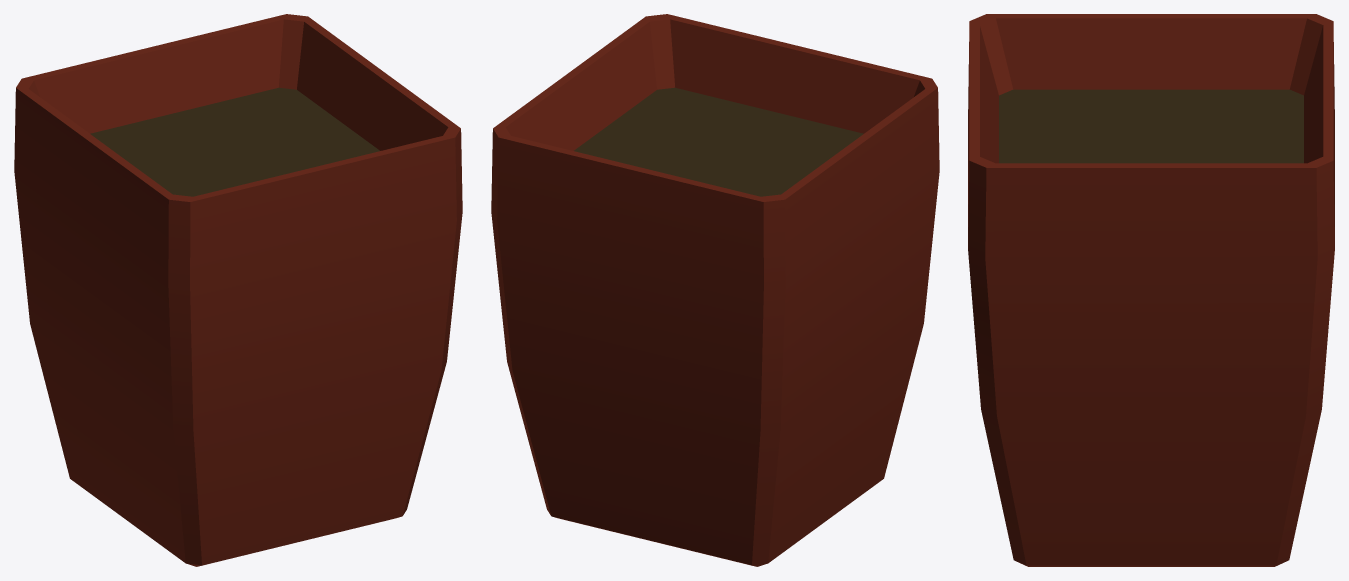
The model's file is PlantPot-Large_05.fbx.
3 renders of one model, left to right at view 1: azimuth 30°, elevation 25°; view 2: azimuth 150°, elevation 25°; view 3: azimuth 270°, elevation 25°, orthographic. The views are drawn at different scales.
Parts seen in each view (by area): view 1: PlantPotLarge_05; view 2: PlantPotLarge_05; view 3: PlantPotLarge_05.
Part boxes in pixels (box(x1,y1,x2,y2)): PlantPotLarge_05: box(14, 14, 462, 566); PlantPotLarge_05: box(491, 14, 939, 566); PlantPotLarge_05: box(968, 14, 1334, 566).
Bounding box in the file's own units: 0.3374 × 0.4305 × 0.3374.
